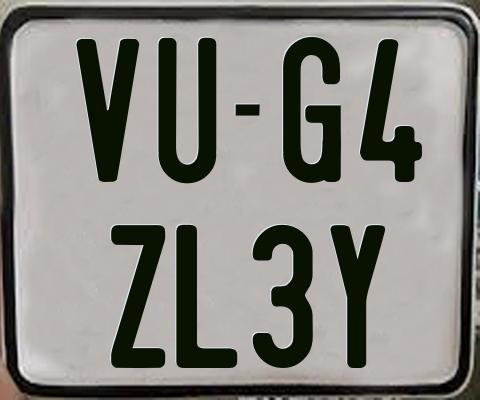3: (251, 225, 311, 368)
4: (357, 37, 420, 185)
G: (280, 37, 338, 189)
L: (173, 223, 238, 367)
U: (156, 37, 220, 185)
V: (75, 37, 142, 184)
Y: (327, 225, 385, 370)
Z: (108, 222, 167, 365)
